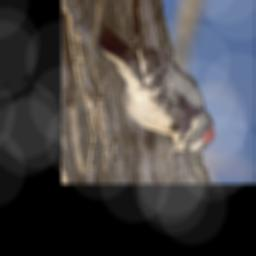Woodpecker: (98, 25, 216, 157)
